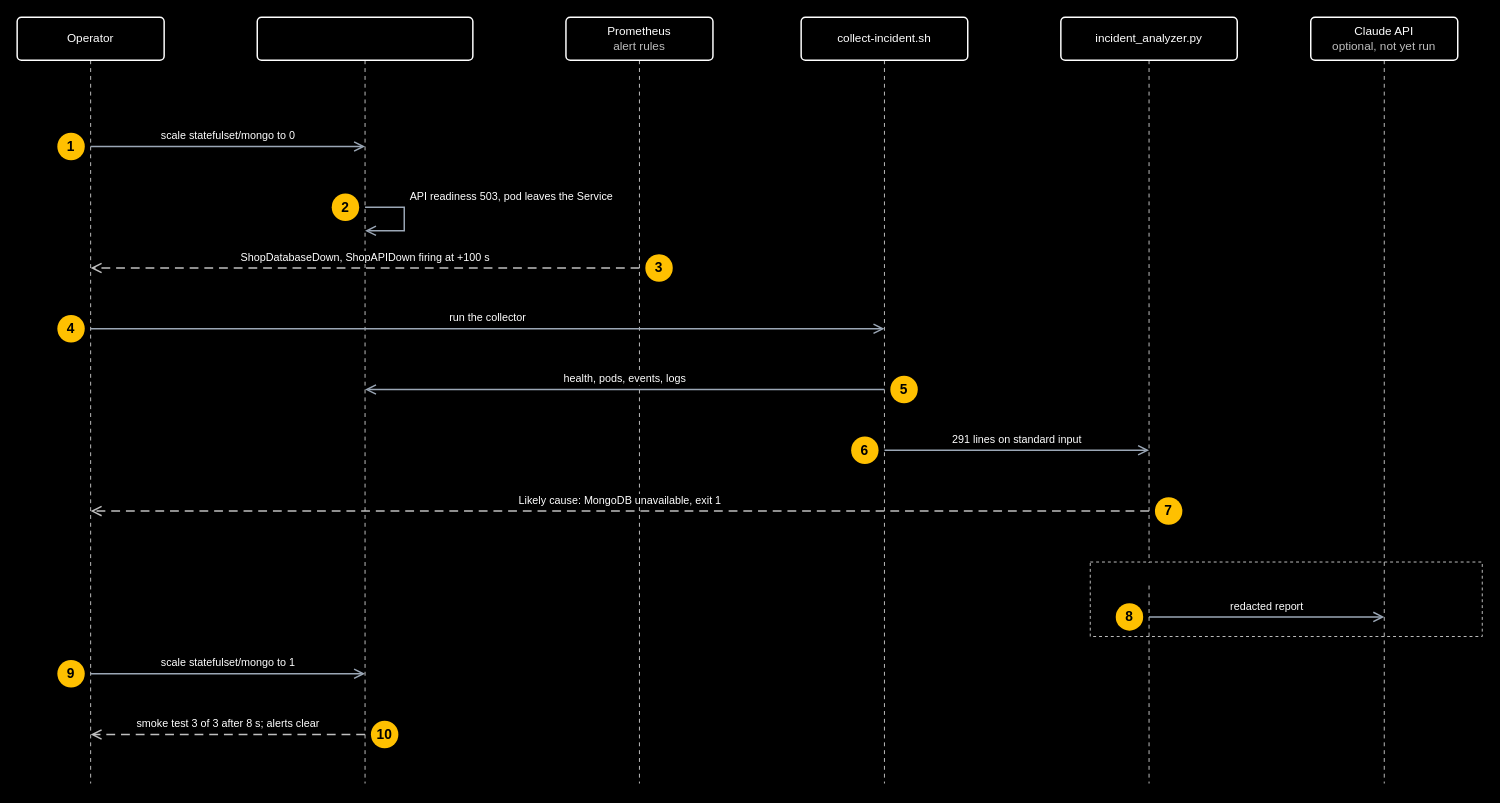
Some shapes in this 1500 by 803 pixel diagram are drawn without their labels. Each missing label, with the box of its shape:
Cluster: MongoDB and API shop namespace: (256, 16, 473, 61)
opt [--ai and an API key]: (1091, 563, 1255, 583)
